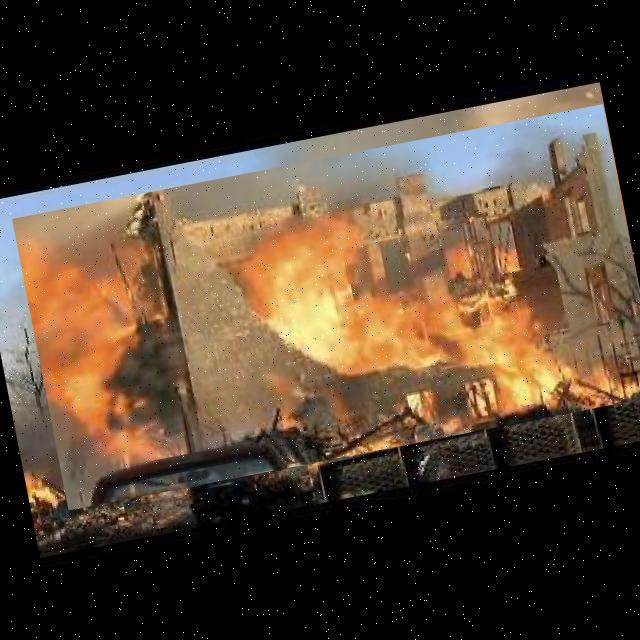fire: (12, 104, 640, 510)
